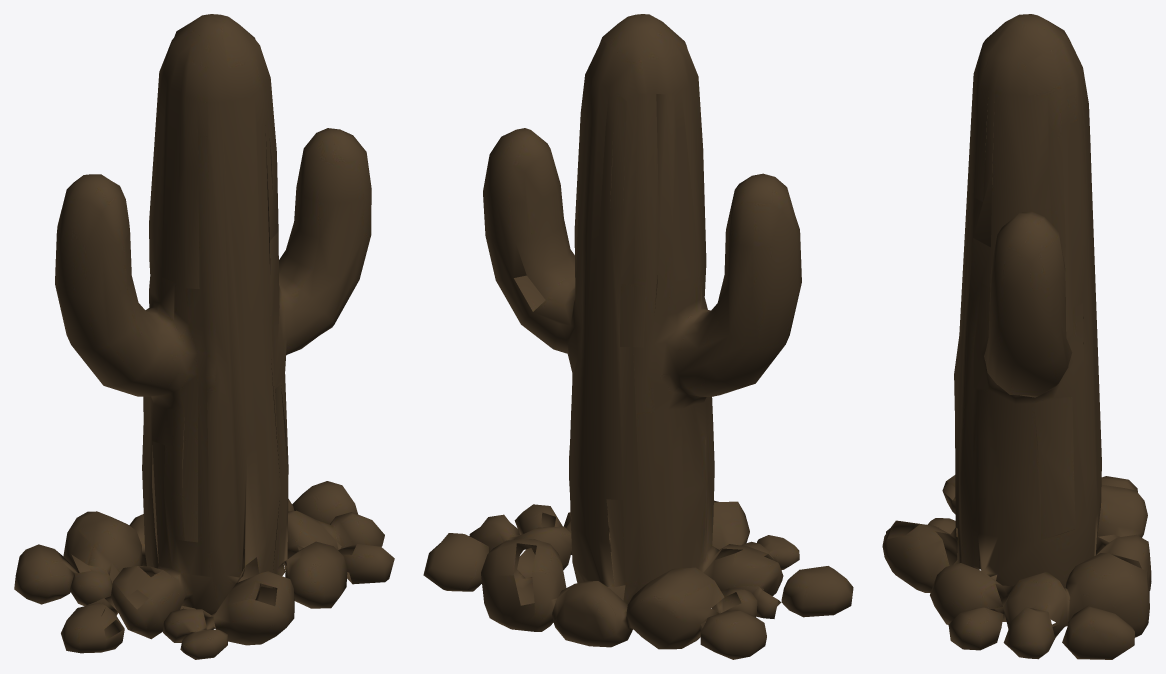
The model's file is cactus_verde.glb.
The picture shows the model from 3 angles, left to right: view 1: azimuth 30°, elevation 25°; view 2: azimuth 150°, elevation 25°; view 3: azimuth 270°, elevation 25°; orthographic projection.
Visible parts, largest first — view 1: cactus_verde; view 2: cactus_verde; view 3: cactus_verde.
Part boxes in pixels (x1,y1,x2,y2): cactus_verde: (14,14,394,659); cactus_verde: (423,14,853,659); cactus_verde: (882,14,1151,659).
Size of what is drawn, in the model's own units: 0.9921 by 1.6 by 0.6716.
1 material, 1 textured.
